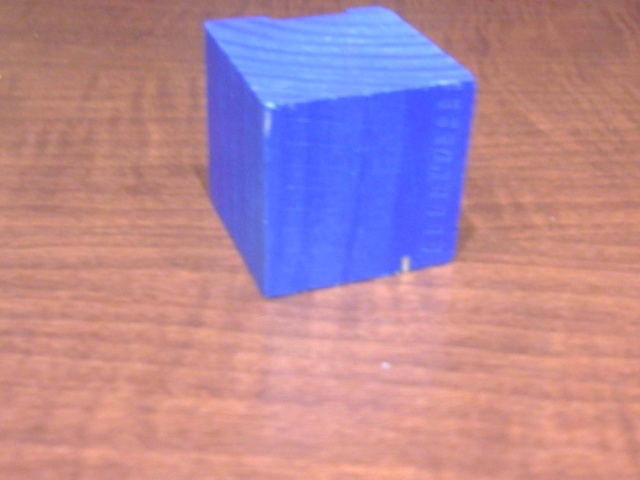BlueBlock: (204, 7, 475, 298)
